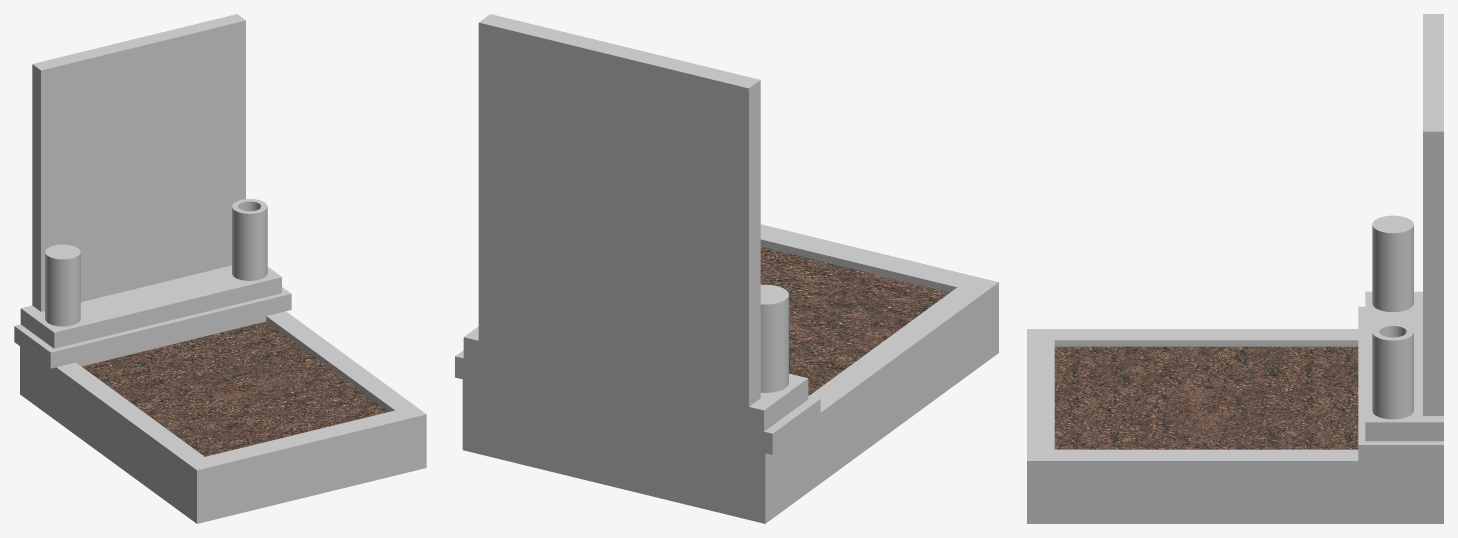
The model's file is UP_podlozka_hlina.glb.
The picture shows the model from 3 angles, left to right: view 1: azimuth 30°, elevation 25°; view 2: azimuth 150°, elevation 25°; view 3: azimuth 270°, elevation 25°; orthographic projection. The views are drawn at different scales.
Visible parts, largest first — view 1: Geom3D_napisova_deska, Geom3D_ram, Geom3D_hlina, Geom3D_podlozka_1, Geom3D_zaklad, Geom3D_podlozka_2, Geom3D_lampa, Geom3D_vaza; view 2: Geom3D_napisova_deska, Geom3D_ram, Geom3D_hlina, Geom3D_zaklad, Geom3D_podlozka_2, Geom3D_podlozka_1, Geom3D_lampa; view 3: Geom3D_ram, Geom3D_hlina, Geom3D_napisova_deska, Geom3D_zaklad, Geom3D_podlozka_1, Geom3D_lampa, Geom3D_vaza, Geom3D_podlozka_2.
Part boxes in pixels (x1,y1,x2,y2): Geom3D_napisova_deska: [32, 14, 245, 311]; Geom3D_ram: [20, 311, 426, 510]; Geom3D_hlina: [82, 321, 389, 456]; Geom3D_podlozka_1: [20, 265, 281, 348]; Geom3D_zaklad: [20, 381, 426, 523]; Geom3D_podlozka_2: [14, 287, 291, 368]; Geom3D_lampa: [45, 244, 80, 326]; Geom3D_vaza: [232, 199, 267, 280]; Geom3D_napisova_deska: [478, 14, 760, 406]; Geom3D_ram: [462, 224, 998, 506]; Geom3D_hlina: [760, 246, 949, 395]; Geom3D_zaklad: [462, 335, 998, 523]; Geom3D_podlozka_2: [455, 350, 820, 454]; Geom3D_podlozka_1: [463, 326, 808, 431]; Geom3D_lampa: [760, 284, 788, 392]; Geom3D_ram: [1027, 329, 1443, 508]; Geom3D_hlina: [1054, 346, 1358, 449]; Geom3D_napisova_deska: [1423, 14, 1443, 415]; Geom3D_zaklad: [1027, 508, 1443, 523]; Geom3D_podlozka_1: [1365, 291, 1443, 441]; Geom3D_lampa: [1372, 215, 1413, 312]; Geom3D_vaza: [1372, 323, 1413, 419]; Geom3D_podlozka_2: [1358, 306, 1443, 463].
Size of the model in its own units: 0.9398 by 1.22 by 1.2.
1 material, 1 textured.
